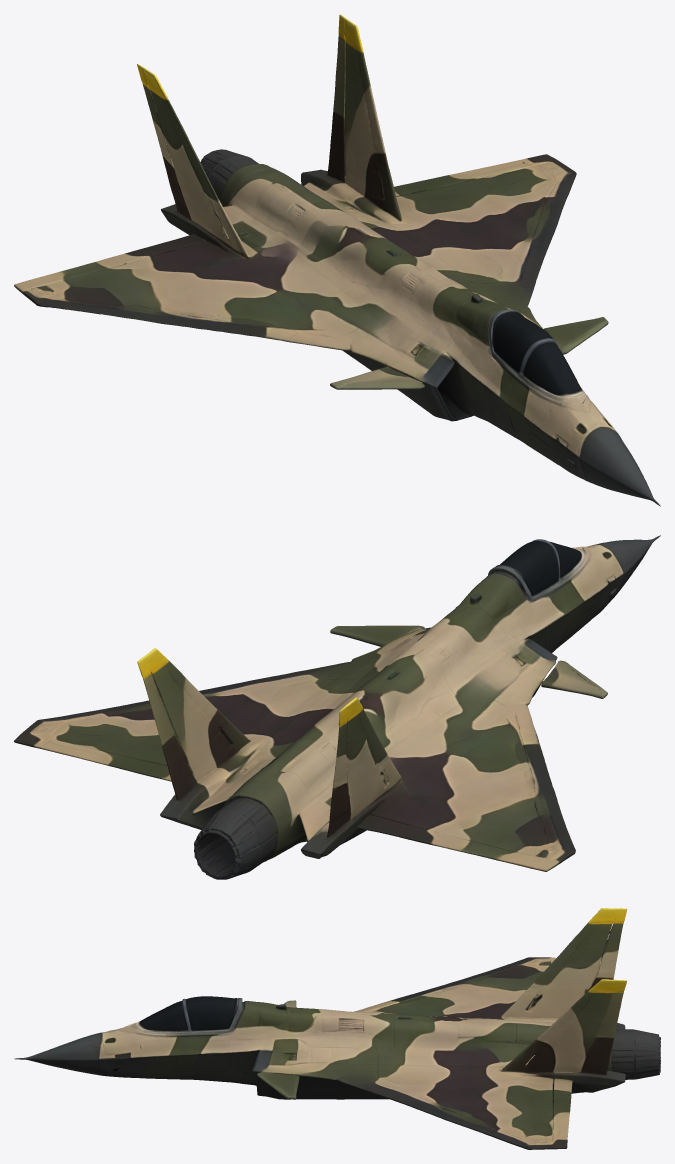
The model's file is enemy.glb.
3 views of the same model, one above another, from view 1: azimuth 30°, elevation 25°; view 2: azimuth 150°, elevation 25°; view 3: azimuth 270°, elevation 25° (orthographic). The views are drawn at different scales.
Visible parts, largest first — view 1: model; view 2: model; view 3: model.
Part boxes in pixels (<box>): model: <box>14,14,660,506</box>; model: <box>14,535,660,879</box>; model: <box>14,908,660,1149</box>.
Bounding box in the file's own units: 1.32 × 0.4636 × 1.89.
Materials: 1 (1 with a texture image).
